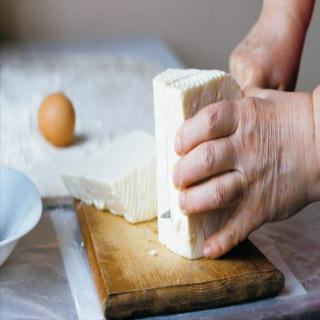Tahu: (151, 55, 253, 265), (62, 149, 170, 229)
